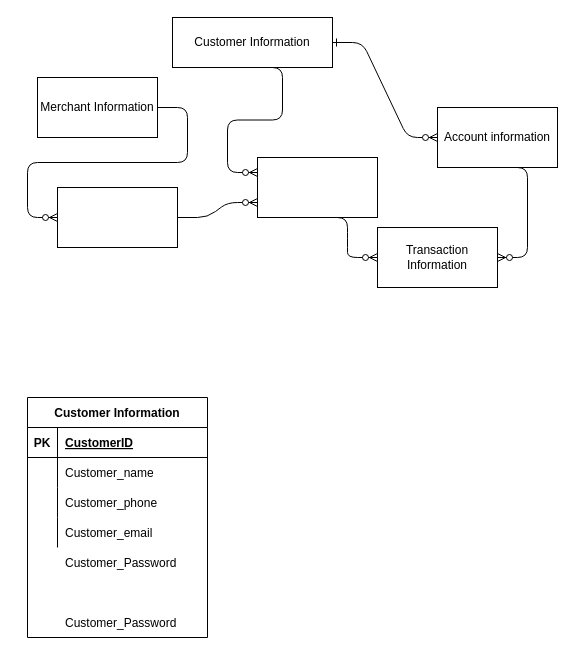
Image size: 575x655. Some labels were removed from this diagram. The centre of each missing label's shape, as x and y in pixels:
"Product Information" belongs at [117,217].
"Purchase Information" belongs at [317,187].
